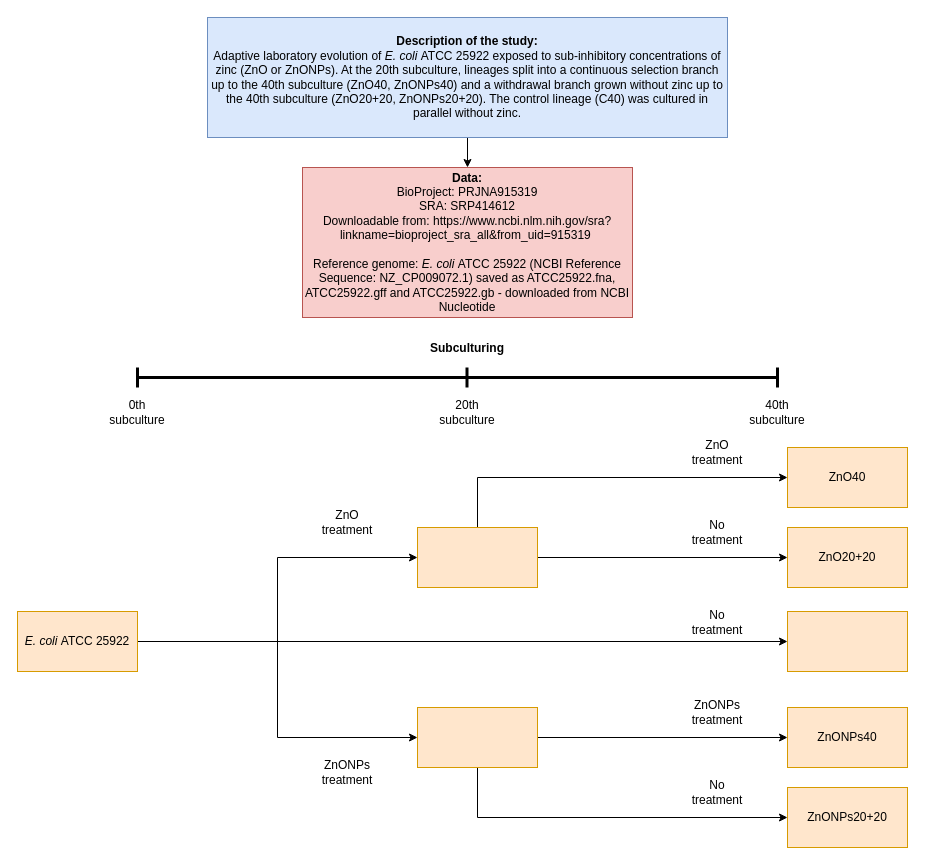
Image size: 925x865. Some labels were removed from this diagram. The shapes that lost their labels are listed below. From the top down, each one's box as (x1, y1, x2, y2) in pixels, then its label:
(416, 526, 538, 588): ZnO20
(786, 610, 908, 672): C40
(416, 706, 538, 768): ZnONPs20
